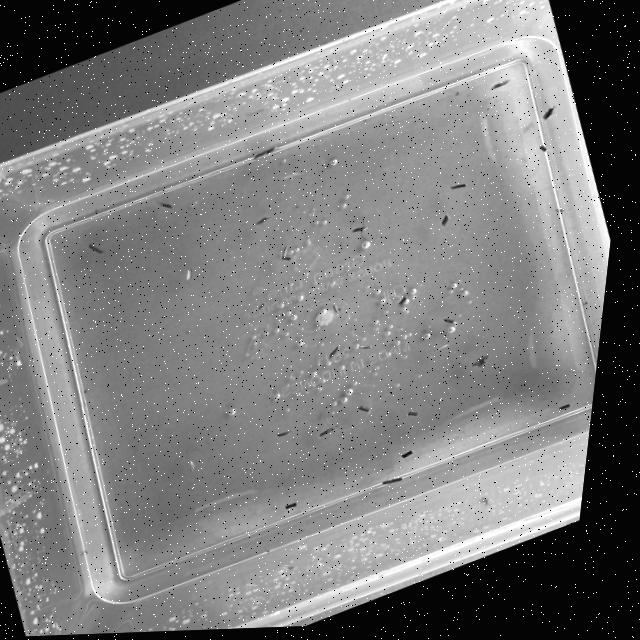Wereng: (462, 347, 496, 378), (170, 262, 210, 288), (323, 293, 358, 321), (80, 233, 113, 261), (423, 334, 459, 358), (236, 144, 273, 167), (310, 419, 346, 442), (376, 469, 409, 494), (437, 177, 471, 200), (173, 450, 200, 478), (272, 244, 299, 272), (531, 103, 558, 131), (239, 298, 274, 319), (269, 421, 298, 446), (142, 197, 177, 217), (277, 493, 306, 517), (243, 206, 271, 230), (347, 398, 375, 421), (434, 310, 463, 331), (390, 446, 418, 467), (395, 403, 419, 427), (486, 75, 511, 98), (338, 222, 368, 241), (530, 136, 558, 155), (319, 346, 342, 365), (394, 293, 415, 311), (356, 338, 374, 356), (554, 399, 570, 414), (435, 213, 451, 227)
